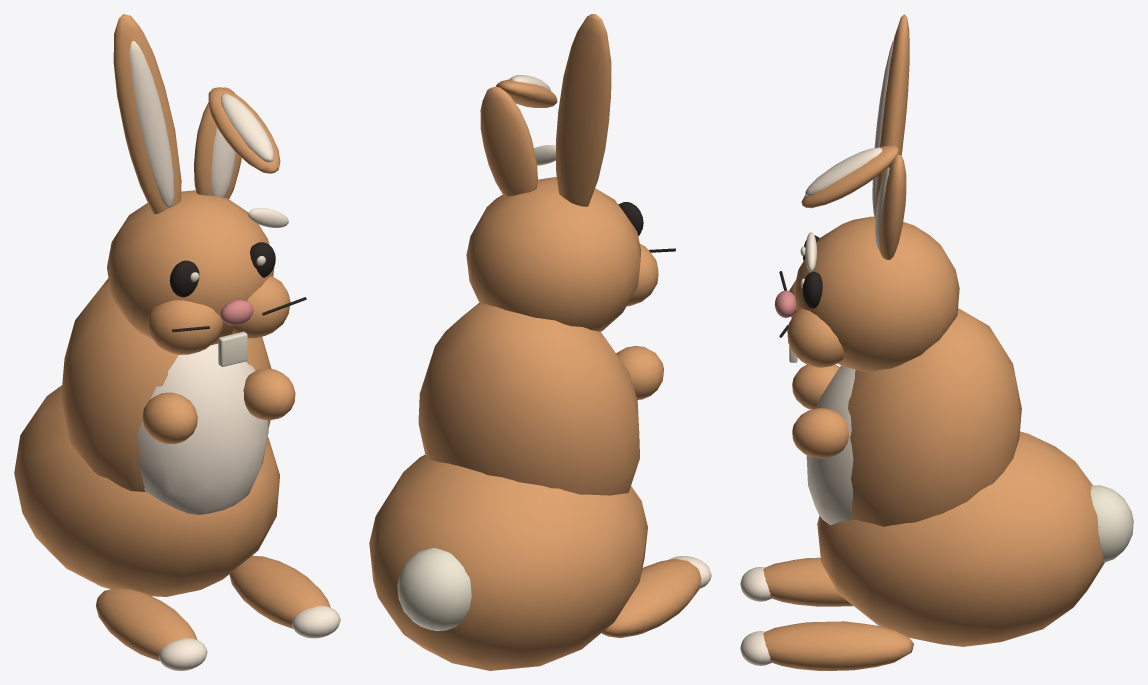
File: Millions.fbx
3 renders of one model, left to right at view 1: azimuth 30°, elevation 25°; view 2: azimuth 150°, elevation 25°; view 3: azimuth 270°, elevation 25°, orthographic. The views are drawn at different scales.
Parts seen in each view (by area): view 1: Millions; view 2: Millions; view 3: Millions.
Part boxes in pixels (bbox=[...]): Millions: bbox=[14, 14, 340, 670]; Millions: bbox=[369, 14, 711, 670]; Millions: bbox=[740, 14, 1133, 670].
Size of the model in its own units: 0.4991 by 1.3 by 0.7768.
